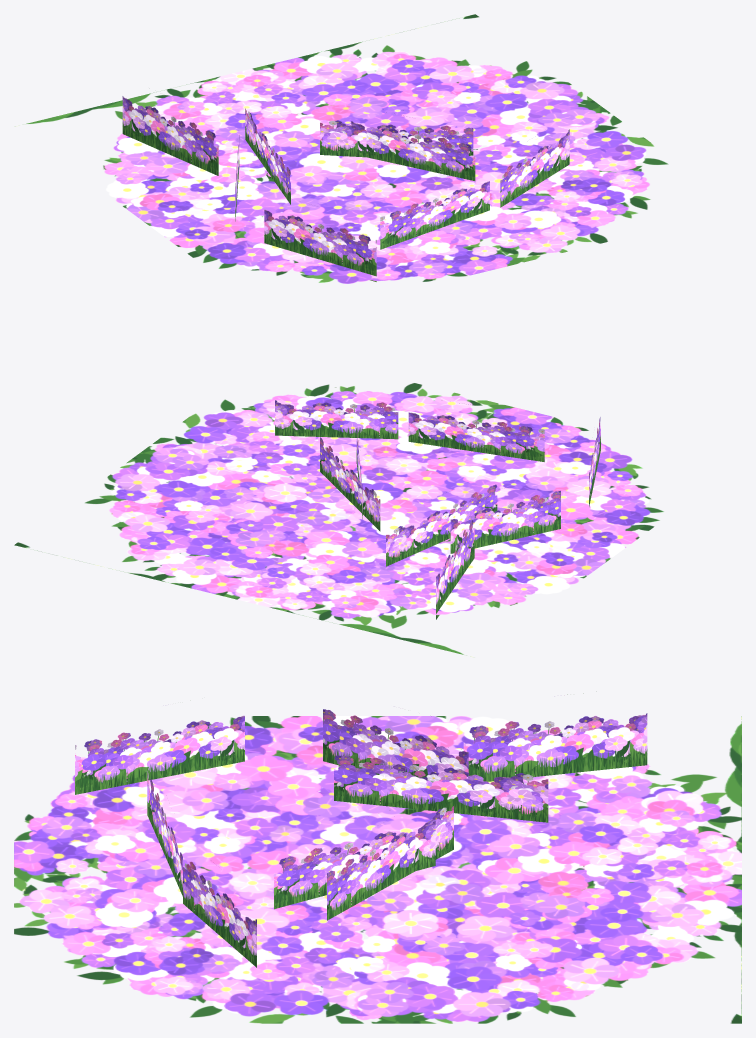
File: flower_clump_c.glb
The picture shows the model from 3 angles, top to bottom: view 1: azimuth 30°, elevation 25°; view 2: azimuth 150°, elevation 25°; view 3: azimuth 270°, elevation 25°; orthographic projection. The views are drawn at different scales.
Visible parts, largest first — view 1: main; view 2: main; view 3: main.
Part boxes in pixels (bbox=[...]): main: bbox=[15, 14, 668, 283]; main: bbox=[14, 383, 663, 656]; main: bbox=[14, 693, 741, 1023].
Size of the model in its own units: 10 by 1.31 by 10.
Materials: 1 (1 with a texture image).
